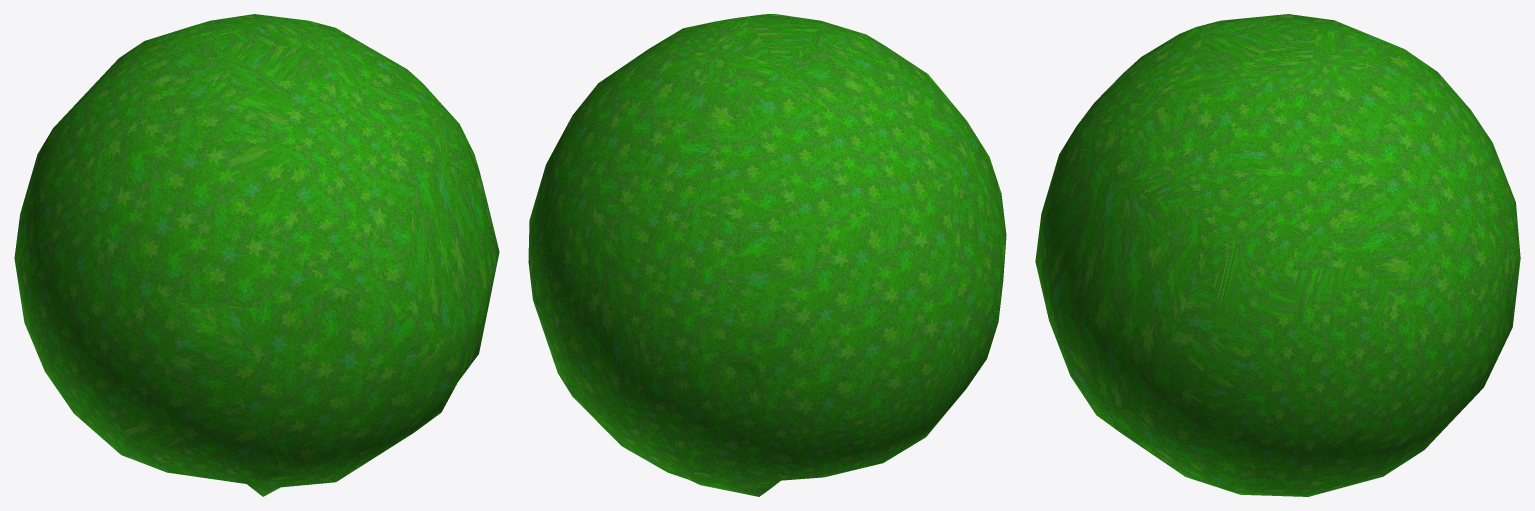
File: DinoPackunHikePlanetLow.fbx
The picture shows the model from 3 angles, left to right: view 1: azimuth 30°, elevation 25°; view 2: azimuth 150°, elevation 25°; view 3: azimuth 270°, elevation 25°; orthographic projection.
Parts seen in each view (by area): view 1: Plane; view 2: Plane; view 3: Plane.
Boxes of the visible parts, left/top/right/bottom form: Plane: left=14, top=14, right=499, bottom=496; Plane: left=528, top=14, right=1006, bottom=496; Plane: left=1035, top=14, right=1520, bottom=496.
Size of the model in its own units: 304377 by 302150 by 305461.
